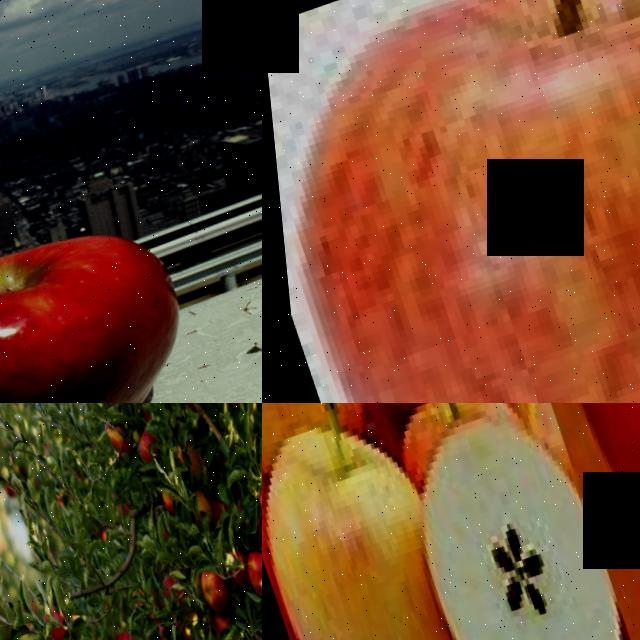apple: (262, 0, 640, 403), (372, 403, 640, 640), (262, 403, 470, 640), (0, 203, 227, 403), (482, 403, 640, 640), (366, 403, 519, 459), (186, 566, 233, 631), (183, 495, 226, 540), (233, 549, 262, 613), (31, 597, 73, 640), (103, 424, 136, 473), (214, 403, 260, 428), (244, 481, 262, 542), (250, 403, 262, 434)
